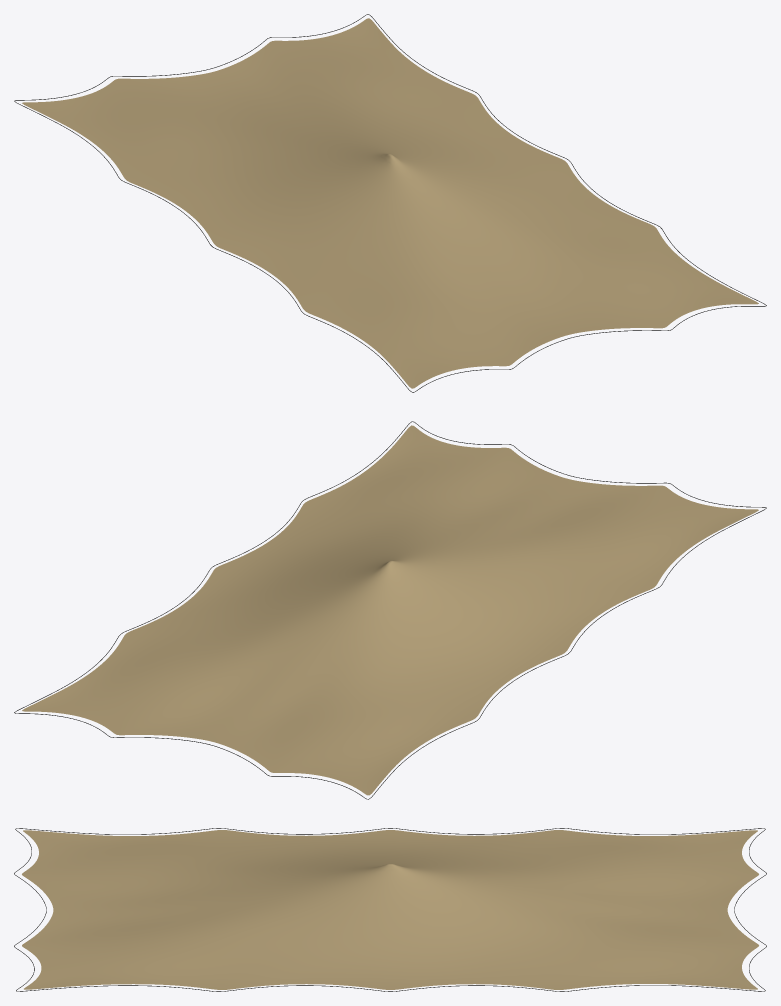
The model's file is tent-rope.glb.
3 renders of one model, top to bottom at view 1: azimuth 30°, elevation 25°; view 2: azimuth 150°, elevation 25°; view 3: azimuth 270°, elevation 25°, orthographic. The views are drawn at different scales.
Visible parts, largest first — view 1: FA 20x10 Zelt, FA 20x10 Seil; view 2: FA 20x10 Zelt, FA 20x10 Seil; view 3: FA 20x10 Zelt, FA 20x10 Seil.
Part boxes in pixels (x1,y1,x2,y2): FA 20x10 Zelt: (22,18,758,388); FA 20x10 Seil: (14,14,766,392); FA 20x10 Zelt: (22,425,758,795); FA 20x10 Seil: (14,421,766,799); FA 20x10 Zelt: (22,830,758,989); FA 20x10 Seil: (14,828,766,991).
Bounding box in the file's own units: 11.51 × 1.51 × 22.39.
